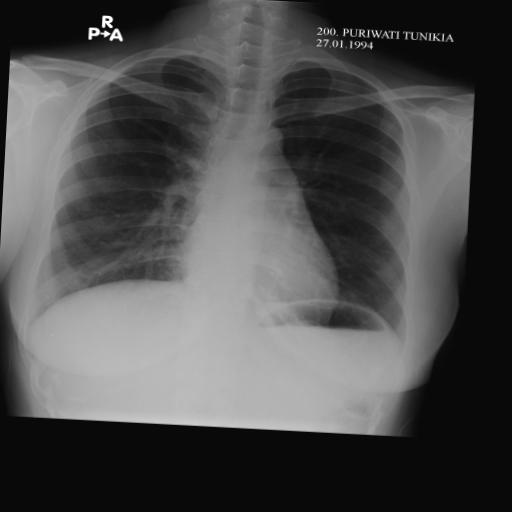normal: (12, 29, 445, 355)
